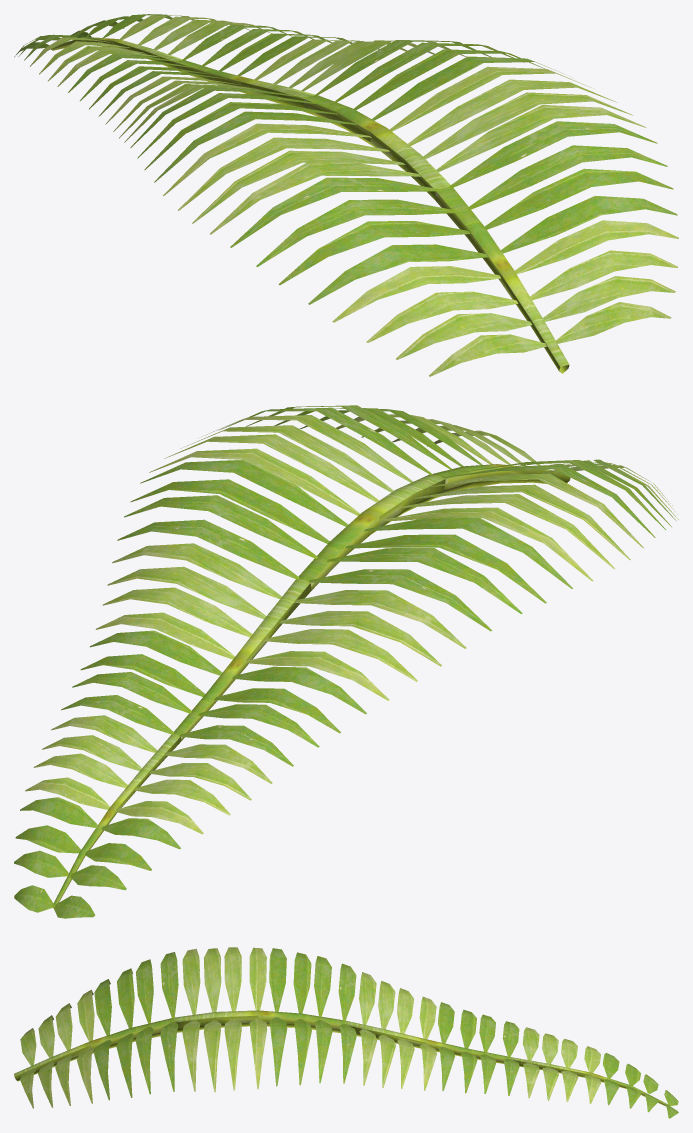
The model's file is palmLeaf.obj.
3 views of the same model, one above another, from view 1: azimuth 30°, elevation 25°; view 2: azimuth 150°, elevation 25°; view 3: azimuth 270°, elevation 25° (orthographic). The views are drawn at different scales.
Parts seen in each view (by area): view 1: leaf_Cube; view 2: leaf_Cube; view 3: leaf_Cube.
Part boxes in pixels (box(x1,y1,x2,y2)): leaf_Cube: box(14, 14, 678, 376); leaf_Cube: box(14, 405, 678, 918); leaf_Cube: box(14, 947, 678, 1118).
Bounding box in the file's own units: 3.87 × 1.54 × 7.82.
